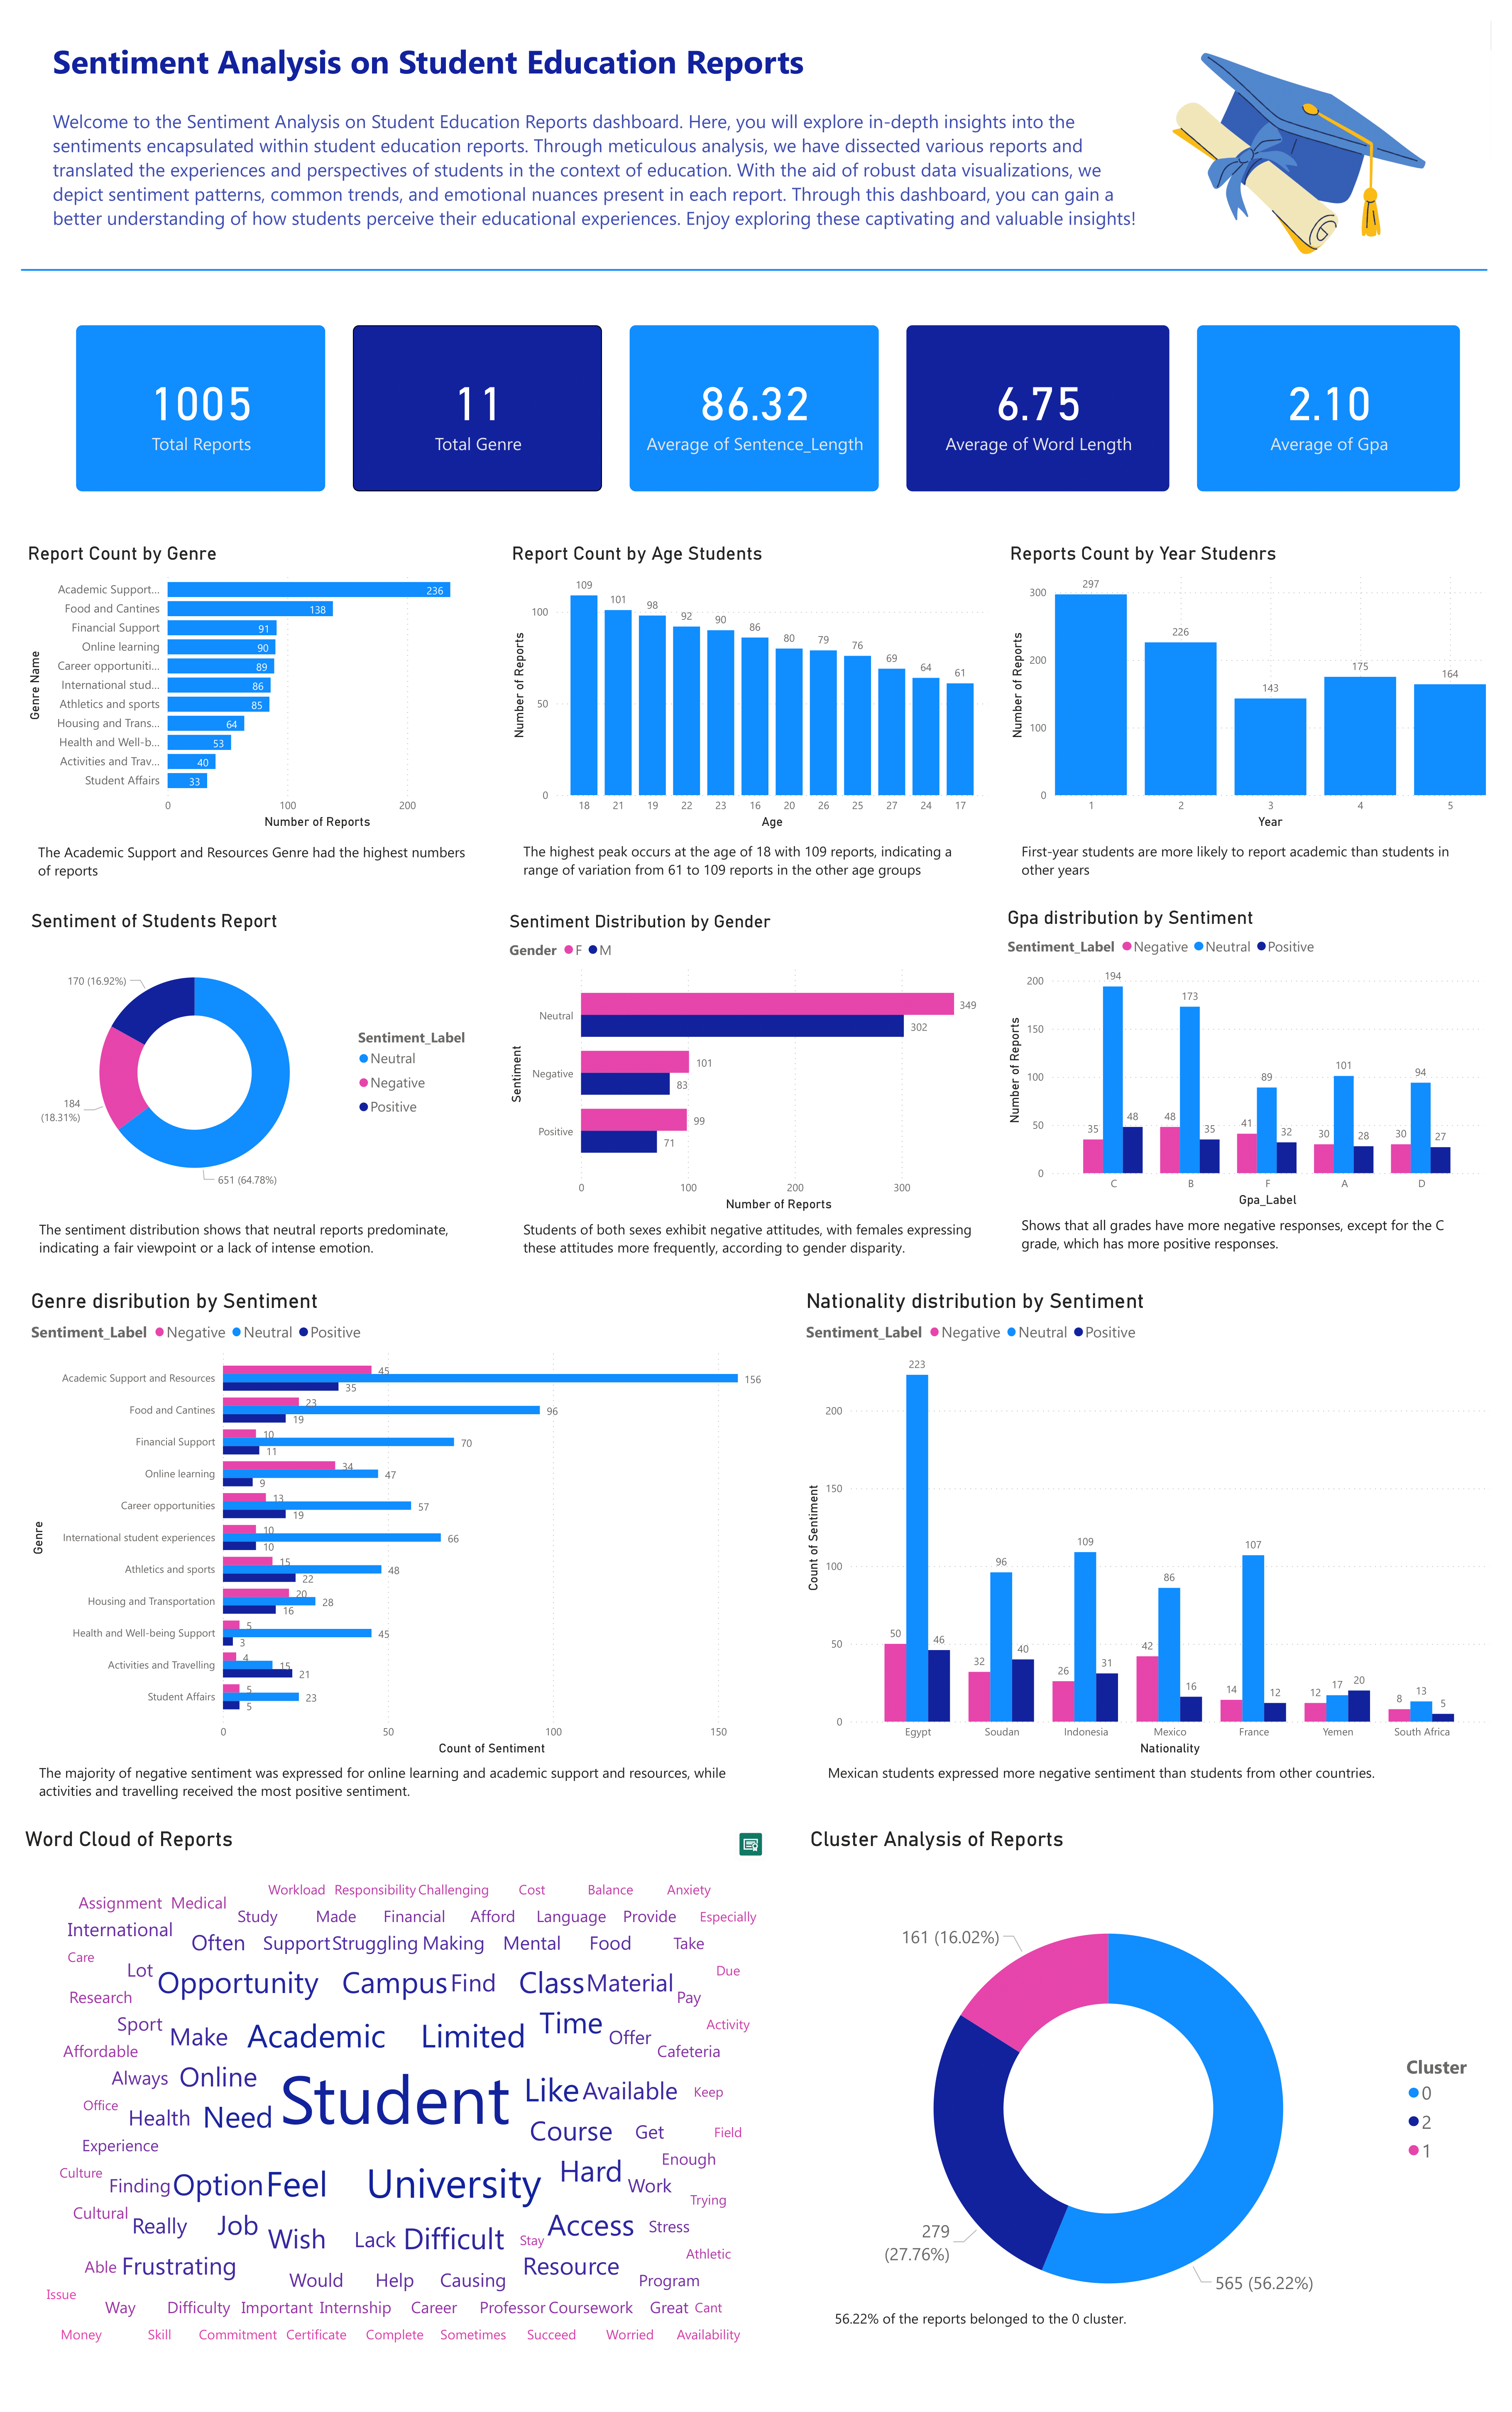

This screenshot's page, from the dashboard's own definition file:
{"tool":"powerbi","page":{"name":"Page 1","canvas":[1700,2740],"ordinal":0},"visuals":[{"type":"barChart","title":"Report Count by Genre","fields":{"Category":["clusteringDone2.Genre"],"Y":["clusteringDone2.Measure"]},"box":[3.3,603.3,528,336],"z":0},{"type":"clusteredBarChart","title":"Sentiment Distribution by Gender","fields":{"Category":["clusteringDone2.Sentiment_Label"],"Y":["clusteringDone2.Measure Sentiment Label"],"Series":["clusteringDone2.Gender"]},"box":[560,1028.7,560,352],"z":1000},{"type":"donutChart","title":"Sentiment of Students Report","fields":{"Y":["clusteringDone.Measure Sentiment Label"],"Category":["clusteringDone2.Sentiment_Label"]},"box":[6.7,1027.5,528,352],"z":2000},{"type":"clusteredColumnChart","title":"Nationality distribution by  Sentiment","fields":{"Y":["clusteringDone.Measure"],"Category":["clusteringDone2.Nationality"],"Series":["clusteringDone2.Sentiment_Label"]},"box":[902.7,1465.5,800,544],"z":3000},{"type":"columnChart","title":"Report Count by Age Students","fields":{"Y":["clusteringDone.Measure"],"Category":["clusteringDone2.Age"]},"box":[563.3,603.3,560,336],"z":4000},{"type":"clusteredColumnChart","title":"Gpa distribution by Sentiment","fields":{"Category":["clusteringDone2.Gpa_Label"],"Y":["clusteringDone2.Measure"],"Series":["clusteringDone2.Sentiment_Label"]},"box":[1136,1024,560,352],"z":5000},{"type":"clusteredBarChart","title":"Genre disribution by Sentiment","fields":{"Y":["clusteringDone.Measure"],"Category":["clusteringDone2.Genre"],"Series":["clusteringDone2.Sentiment_Label"]},"box":[6.7,1465.5,864,544],"z":6000},{"type":"clusteredColumnChart","title":"Reports Count by Year Studenrs","fields":{"Category":["clusteringDone2.Year"],"Y":["clusteringDone2.Measure"]},"box":[1139.3,603.3,560,336],"z":7000},{"type":"WordCloud5550983e166911eebe560242ac120002","title":"Word Cloud of Reports","fields":{"categories":["clusteringDone2.Processed_Reports"]},"box":[0,2088,864,624],"z":8000},{"type":"donutChart","title":"Cluster Analysis of Reports","fields":{"Category":["clusteringDone2.Cluster"],"Y":["CountNonNull(clusteringDone2.Cluster)"]},"box":[908,2088,792,624],"z":9000},{"type":"card","fields":{"Values":["CountNonNull(clusteringDone2.Reports)"]},"box":[64,352,288,192],"z":10000,"group":"g1"},{"type":"group","id":"g1","title":"Group 1","box":[64,352,1600,192],"z":10000},{"type":"card","fields":{"Values":["Avg(clusteringDone2.Average_Word_Length)"]},"box":[1024,352,304,192],"z":11000,"group":"g1"},{"type":"shape","box":[0,192,1696,192],"z":11000},{"type":"card","fields":{"Values":["Avg(clusteringDone2.Average_Sentence_Length)"]},"box":[704,352,288,192],"z":12000,"group":"g1"},{"type":"textbox","box":[32,16,896,64],"z":12000},{"type":"card","fields":{"Values":["Count(clusteringDone2.Genre)"]},"box":[384,352,288,192],"z":13000,"group":"g1"},{"type":"textbox","box":[32,96,1280,160],"z":13000},{"type":"card","fields":{"Values":["Avg(clusteringDone2.Gpa_Label_Num)"]},"box":[1360,352,304,192],"z":14000,"group":"g1"},{"type":"textbox","box":[15,945,512,64],"z":14000},{"type":"textbox","box":[576,944,544,64],"z":15000},{"type":"textbox","box":[1152,944,544,64],"z":16000},{"type":"textbox","box":[16,1380.7,512,64],"z":17000},{"type":"textbox","box":[576,1380.7,544,64],"z":18000},{"type":"textbox","box":[1152,1376,544,64],"z":19000},{"type":"textbox","box":[16,2009,832,64],"z":20000},{"type":"textbox","box":[928,2009,768,48],"z":21000},{"type":"textbox","box":[936,2640,360,48],"z":21001},{"type":"image","box":[1296,0,368,304],"z":21002}]}

Visuals, with their boxes in screenshot pixels (x1, y1, x2, y2):
"Report Count by Genre" barChart: locate(24, 543, 480, 833)
"Sentiment Distribution by Gender" clusteredBarChart: locate(505, 911, 990, 1215)
"Sentiment of Students Report" donutChart: locate(27, 910, 483, 1214)
"Nationality distribution by  Sentiment" clusteredColumnChart: locate(802, 1288, 1491, 1759)
"Report Count by Age Students" columnChart: locate(508, 543, 992, 833)
"Gpa distribution by Sentiment" clusteredColumnChart: locate(1003, 907, 1488, 1211)
"Genre disribution by Sentiment" clusteredBarChart: locate(27, 1288, 774, 1759)
"Reports Count by Year Studenrs" clusteredColumnChart: locate(1006, 543, 1491, 833)
"Word Cloud of Reports" WordCloud5550983e166911eebe560242ac120002: locate(21, 1827, 768, 2367)
"Cluster Analysis of Reports" donutChart: locate(806, 1827, 1491, 2367)
card - CountNonNull(clusteringDone2.Reports): locate(76, 325, 325, 491)
"Group 1" group: locate(76, 325, 1460, 491)
card - Avg(clusteringDone2.Average_Word_Length): locate(907, 325, 1169, 491)
shape: locate(21, 187, 1488, 353)
card - Avg(clusteringDone2.Average_Sentence_Length): locate(630, 325, 879, 491)
textbox: locate(49, 34, 824, 90)
card - Count(clusteringDone2.Genre): locate(353, 325, 602, 491)
textbox: locate(49, 104, 1156, 242)
card - Avg(clusteringDone2.Gpa_Label_Num): locate(1197, 325, 1460, 491)
textbox: locate(34, 838, 477, 894)
textbox: locate(519, 837, 990, 893)
textbox: locate(1017, 837, 1488, 893)
textbox: locate(34, 1215, 477, 1271)
textbox: locate(519, 1215, 990, 1271)
textbox: locate(1017, 1211, 1488, 1266)
textbox: locate(34, 1759, 754, 1814)
textbox: locate(824, 1759, 1488, 1800)
textbox: locate(830, 2305, 1142, 2346)
image: locate(1142, 21, 1460, 284)
